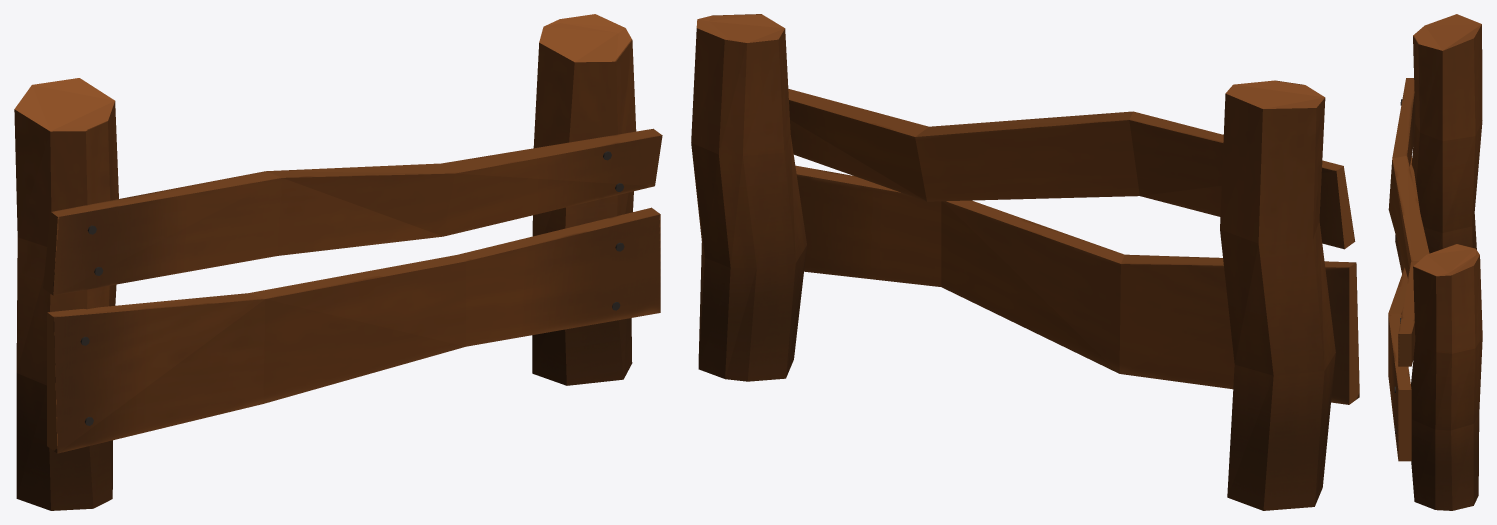
The model's file is wooden fence_02.FBX.
3 renders of one model, left to right at view 1: azimuth 30°, elevation 25°; view 2: azimuth 150°, elevation 25°; view 3: azimuth 270°, elevation 25°, orthographic. The views are drawn at different scales.
Parts seen in each view (by area): view 1: fence_02; view 2: fence_02; view 3: fence_02.
Part boxes in pixels (x1,y1,x2,y2): fence_02: (14, 14, 662, 510); fence_02: (691, 14, 1359, 510); fence_02: (1388, 14, 1482, 510).
Bounding box in the file's own units: 56.05 × 34.35 × 10.29.
1 material, 1 textured.
